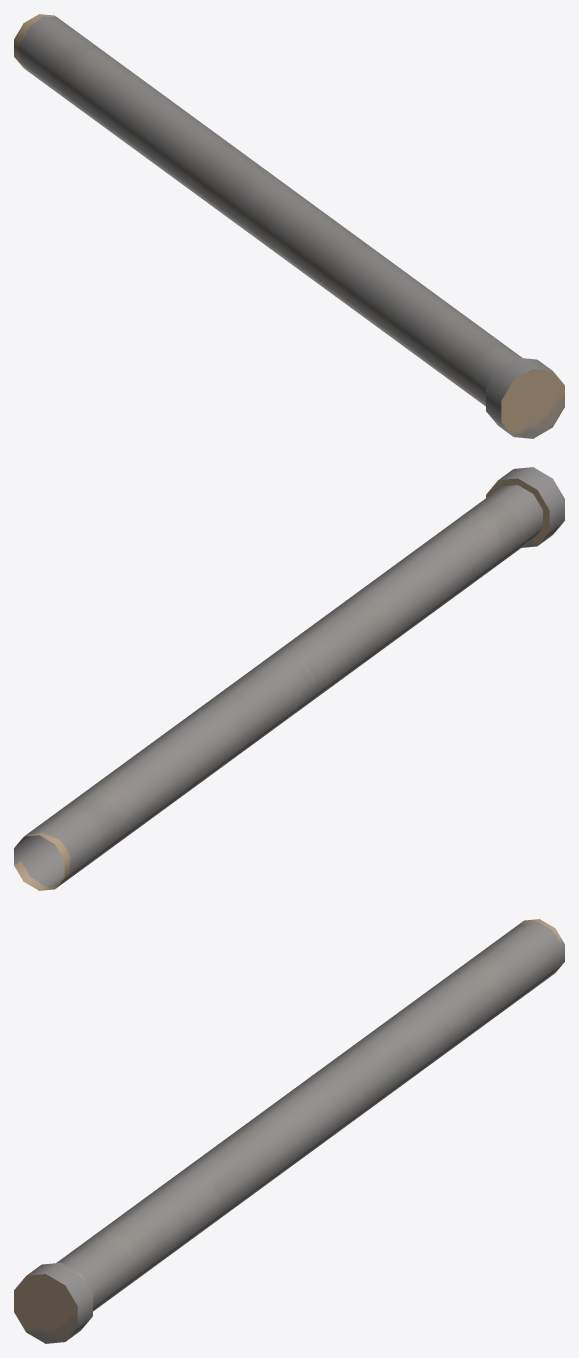
File: props_mining_ceiling_pipe_128_thick.glb
3 views of the same model, one above another, from view 1: azimuth 30°, elevation 25°; view 2: azimuth 150°, elevation 25°; view 3: azimuth 330°, elevation 25° (orthographic).
Visible parts, largest first — view 1: models/props_mining/ceiling_pipe_128_thick; view 2: models/props_mining/ceiling_pipe_128_thick; view 3: models/props_mining/ceiling_pipe_128_thick.
Boxes of the visible parts, x1,y1,x2,y2 form: models/props_mining/ceiling_pipe_128_thick: (14,14,564,438); models/props_mining/ceiling_pipe_128_thick: (14,467,564,890); models/props_mining/ceiling_pipe_128_thick: (14,919,564,1343).
Size of the model in its own units: 9.51 by 10 by 128.
1 material, 1 textured.
